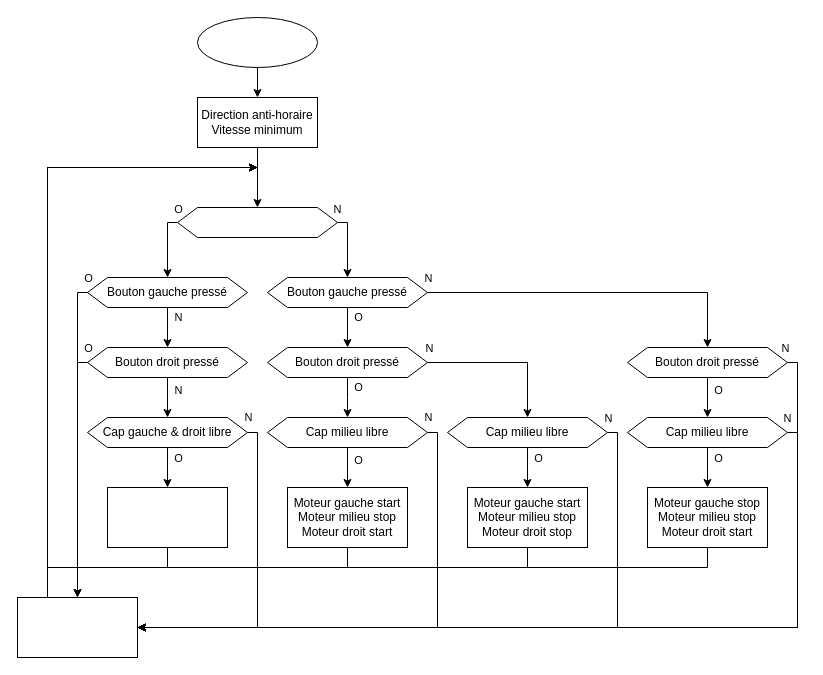
This 823x675 diagram has some shape labels left out. The shapes that lost their labels are listed below. From the top down, each one's box as (x1, y1, x2, y2) in pixels, then its label:
(196, 16, 318, 68): Start
(176, 206, 338, 238): Bouton milieu pressé
(106, 486, 228, 548): Moteur gauche stop Moteur milieu start Moteur droit stop
(16, 596, 138, 658): Moteur gauche stop Moteur milieu stop Moteur droit stop
